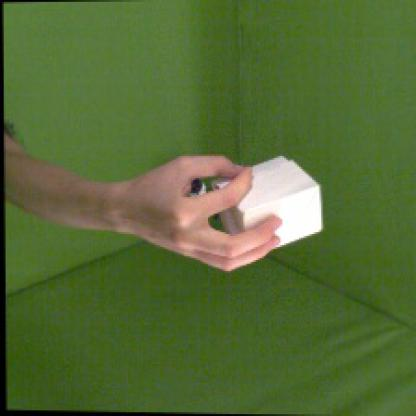Hand: (112, 154, 284, 274)
